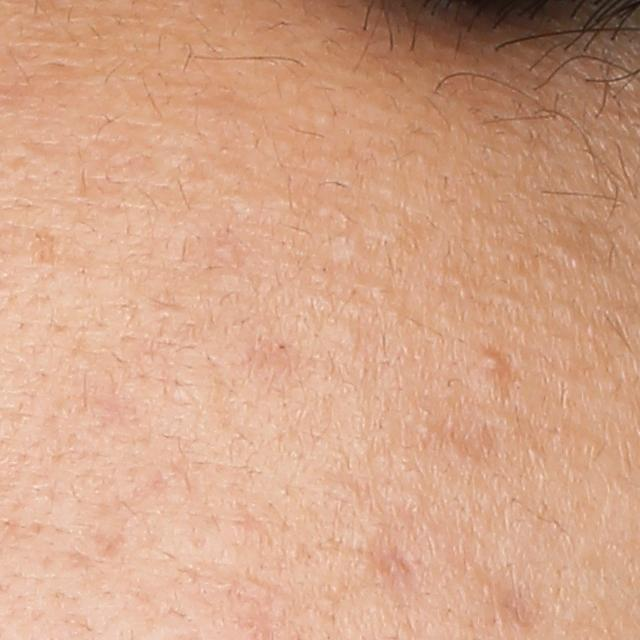comedo: (482, 352, 505, 374)
